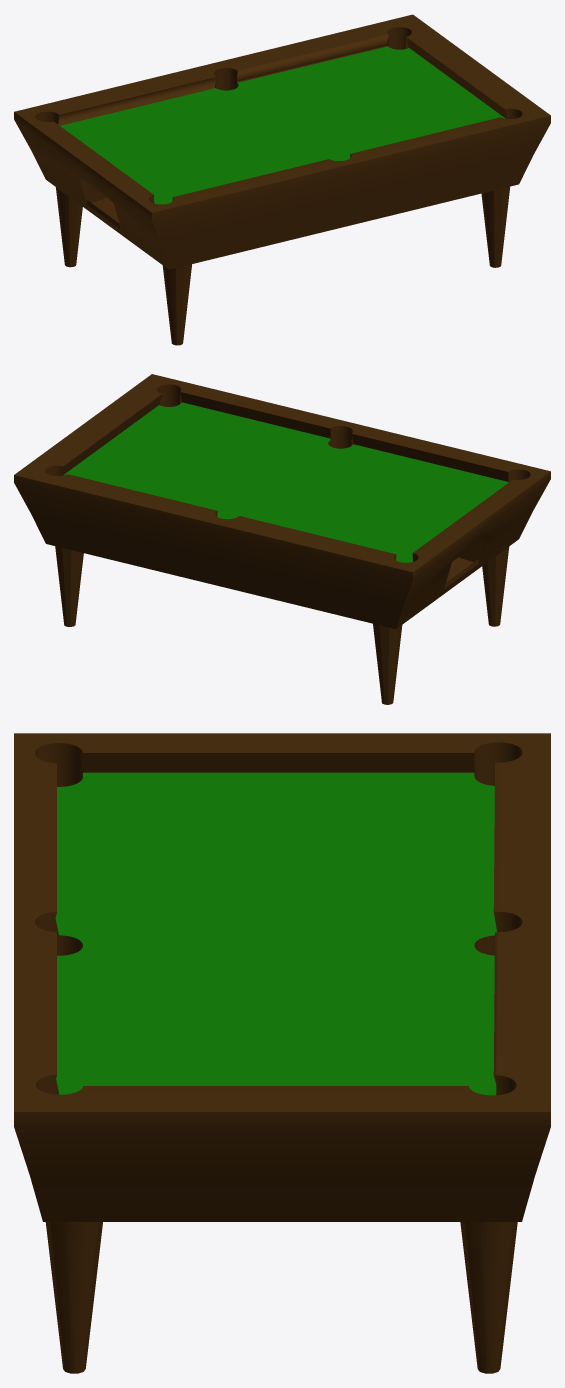
Rendered from PoolTable_C.fbx.
3 views of the same model, one above another, from view 1: azimuth 30°, elevation 25°; view 2: azimuth 150°, elevation 25°; view 3: azimuth 270°, elevation 25° (orthographic). The views are drawn at different scales.
Visible parts, largest first — view 1: Cube.002; view 2: Cube.002; view 3: Cube.002.
Boxes of the visible parts, box(x1,y1,x2,y2) form: Cube.002: box(14, 14, 550, 345); Cube.002: box(14, 374, 550, 704); Cube.002: box(14, 733, 550, 1373).
Bounding box in the file's own units: 2.19 × 0.7936 × 1.31.
